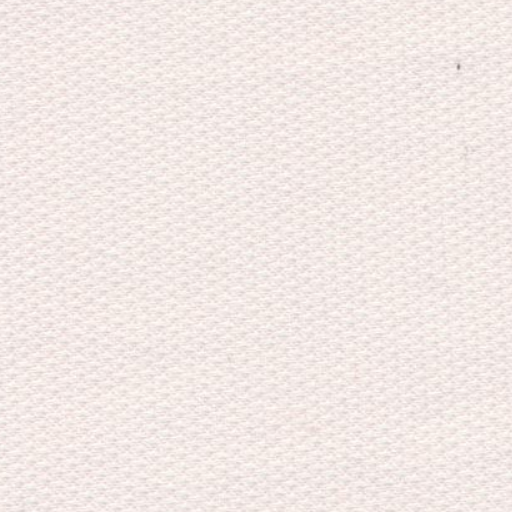WuZi: (442, 50, 486, 87)
